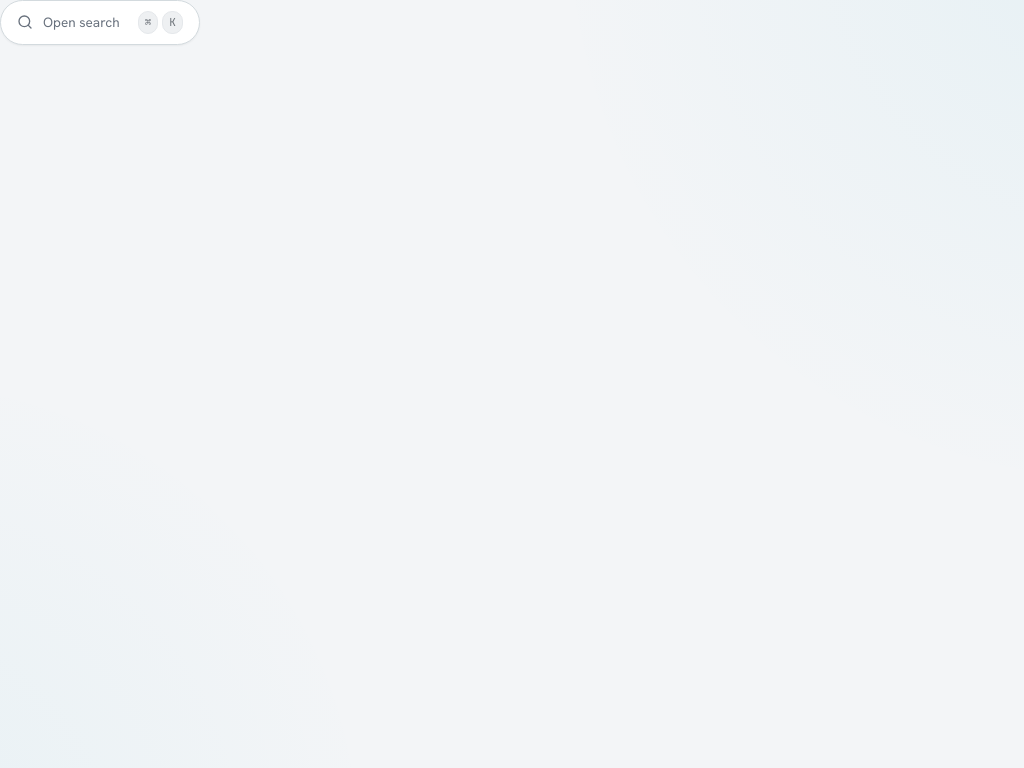
CommandPalette live /search (#231) › shows the error label when the search fails
Click the button "Open search ⌘ K": (100, 22) [0,0,200,44]
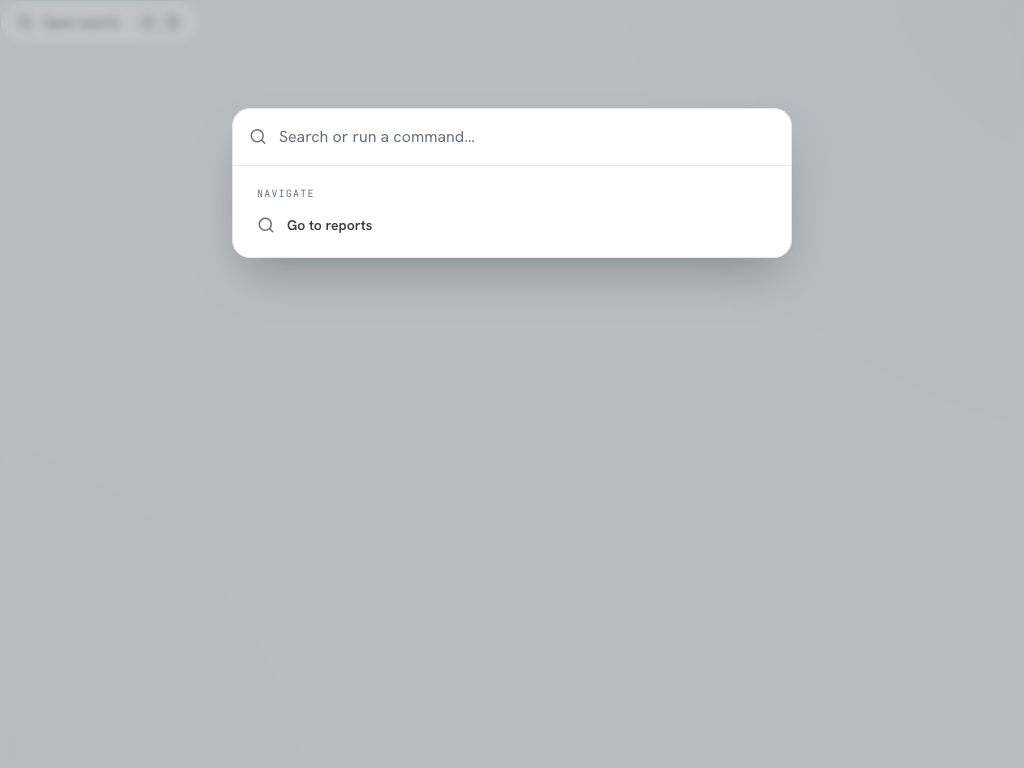
In the dropdown: (527, 136) [279,124,775,148], type "widget"
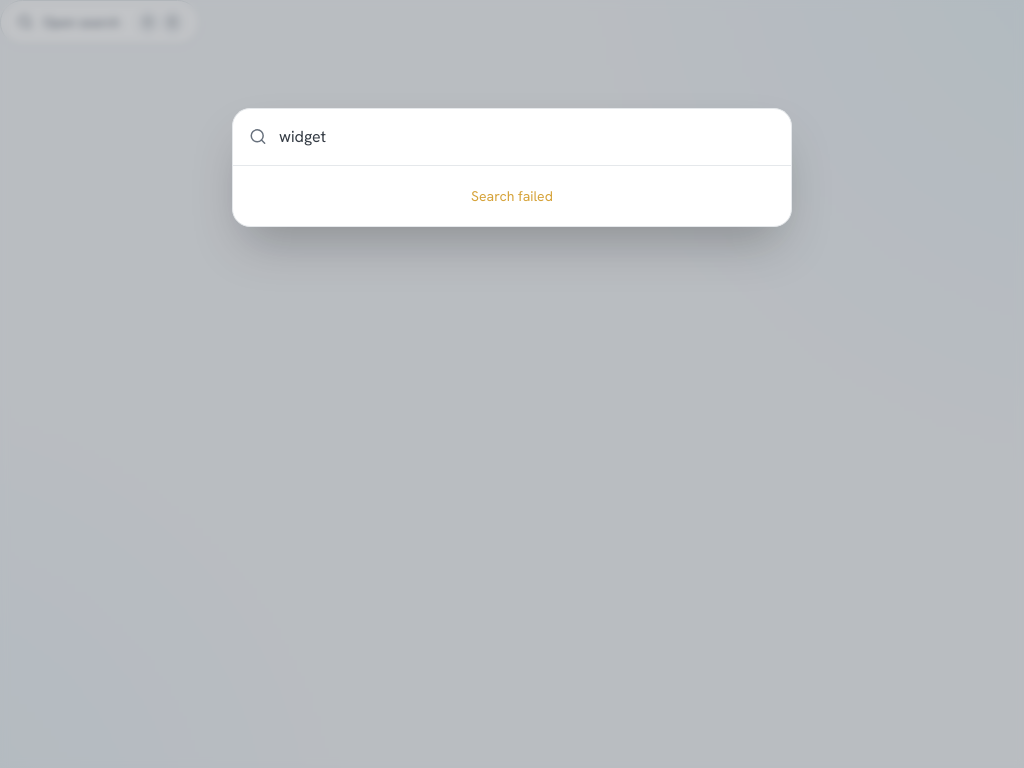
Check: the text "Search failed" is shown, box [471,186,553,204]
